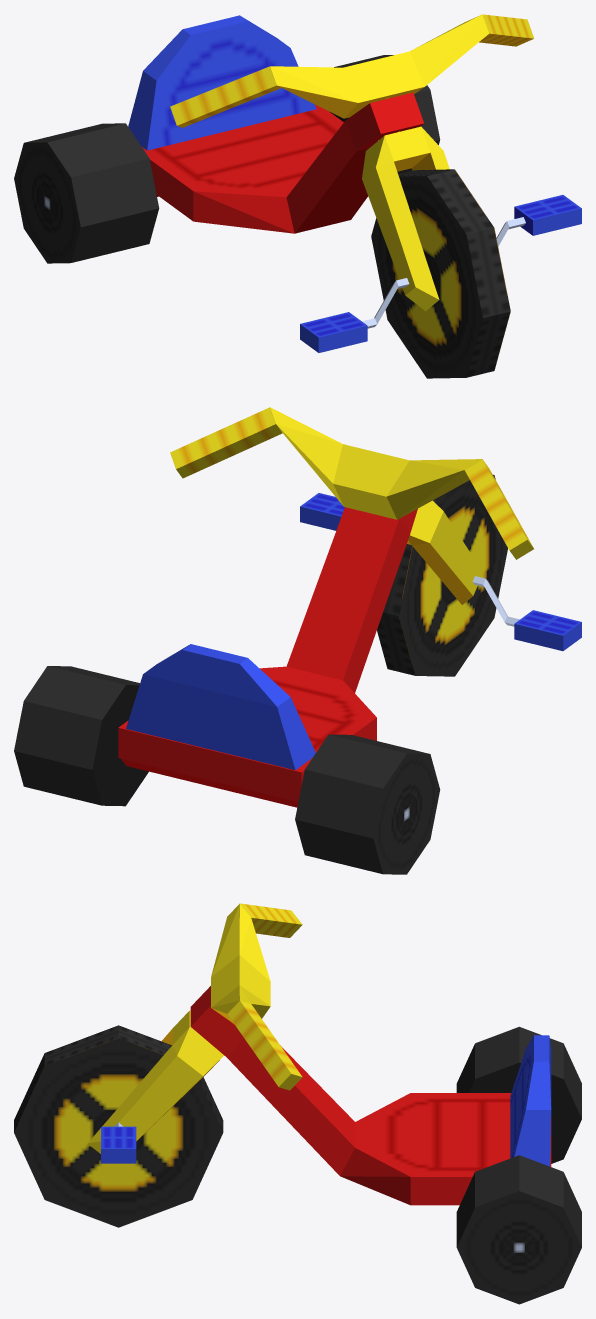
The model's file is bigwheel.fbx.
The picture shows the model from 3 angles, top to bottom: view 1: azimuth 30°, elevation 25°; view 2: azimuth 150°, elevation 25°; view 3: azimuth 270°, elevation 25°; orthographic projection. The views are drawn at different scales.
Visible parts, largest first — view 1: body, wheel_front, wheels_back, handle, fork, pedal_r, pedal_l, axel_front; view 2: body, wheels_back, handle, wheel_front, fork, pedal_r, pedal_l; view 3: body, wheel_front, wheels_back, handle, fork, pedal_l.
Part boxes in pixels (x1,y1,x2,y2): body: (128,15,423,233); wheel_front: (371,169,510,378); wheels_back: (14,55,440,263); handle: (170,14,533,127); fork: (362,126,449,311); pedal_r: (300,312,367,352); pedal_l: (514,195,581,235); axel_front: (362,217,525,328); body: (118,507,417,807); wheels_back: (14,666,440,874); handle: (170,407,533,559); wheel_front: (377,474,507,676); fork: (407,500,483,604); pedal_r: (514,610,581,650); pedal_l: (300,493,344,530); body: (190,986,551,1205); wheel_front: (14,1025,223,1227); wheels_back: (456,1026,581,1304); handle: (211,903,302,1090); fork: (87,1010,223,1153); pedal_l: (101,1126,136,1163).
Bounding box in the file's own units: 0.6503 × 0.499 × 0.9499.
